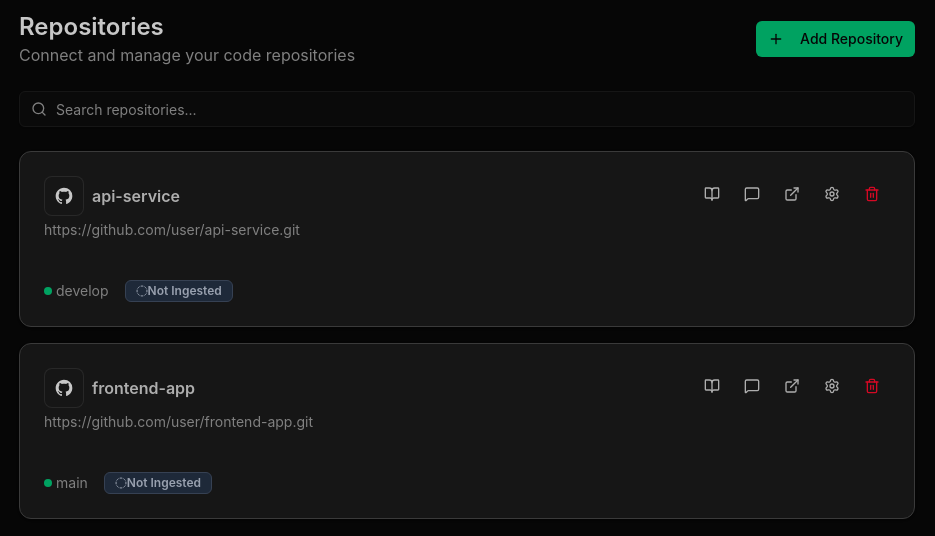
ReposView › shows a no-results message when the filter matches nothing
Expected: the text "frontend-app" is shown, [92,376,195,400]
Type "nonexistent" into the field labelled "Search repositories..." at {"x": 467, "y": 109}, box [19,91,915,127]
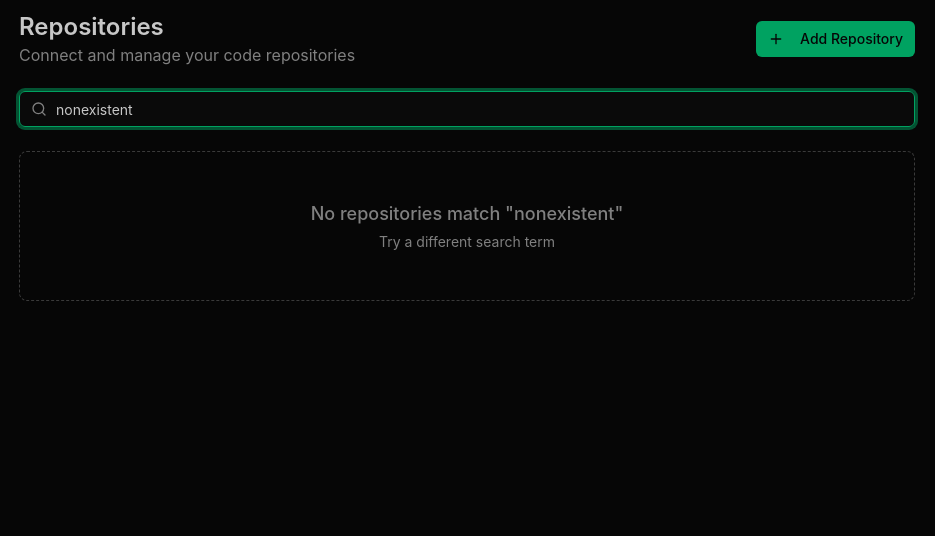
Expected: the text "frontend-app" is gone
Expected: the text "api-service" is gone
Expected: the text "No repositories match \"nonexistent\"" is shown, [311,203,623,224]
